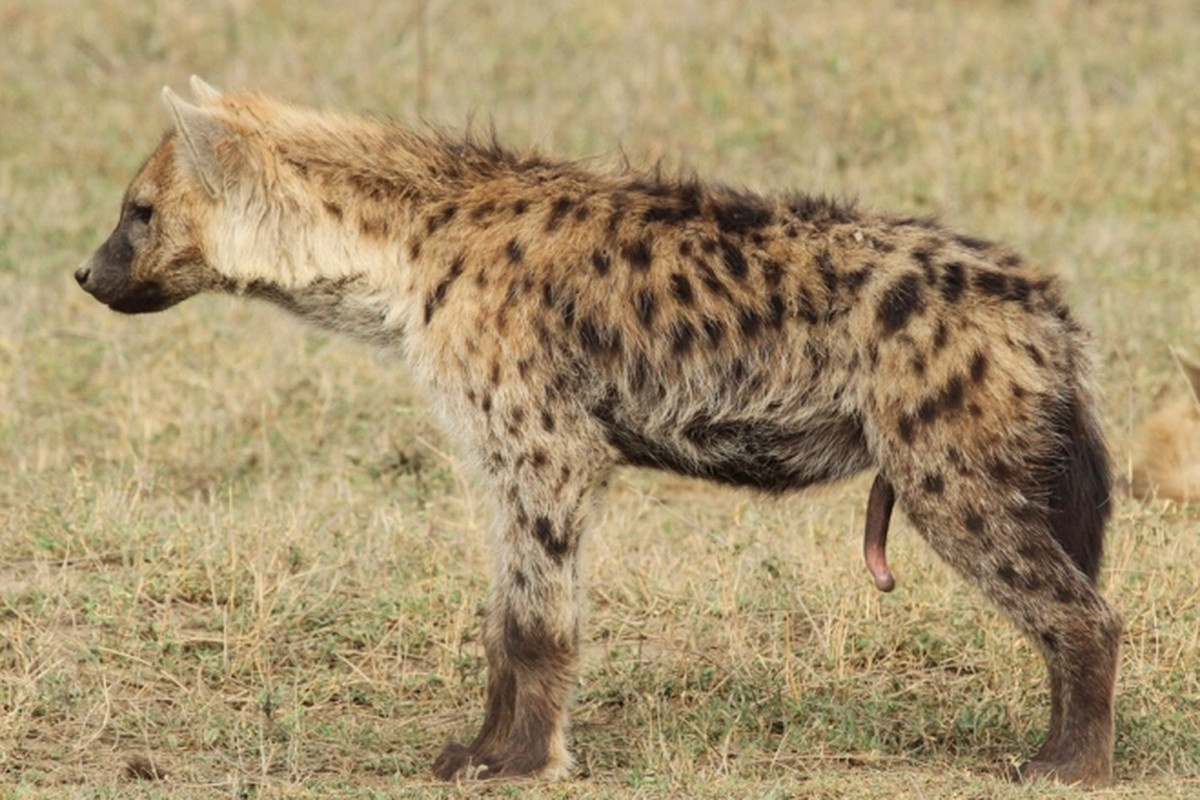hyna: (69, 64, 1132, 789)
